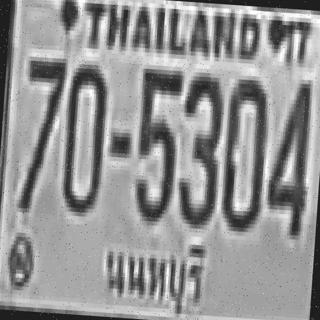N00: (219, 74, 268, 228), (59, 59, 107, 213)
N03: (174, 69, 224, 228)
N04: (263, 75, 311, 234)
N05: (131, 64, 180, 218)
N07: (17, 52, 65, 210)
P37: (94, 230, 214, 320)
